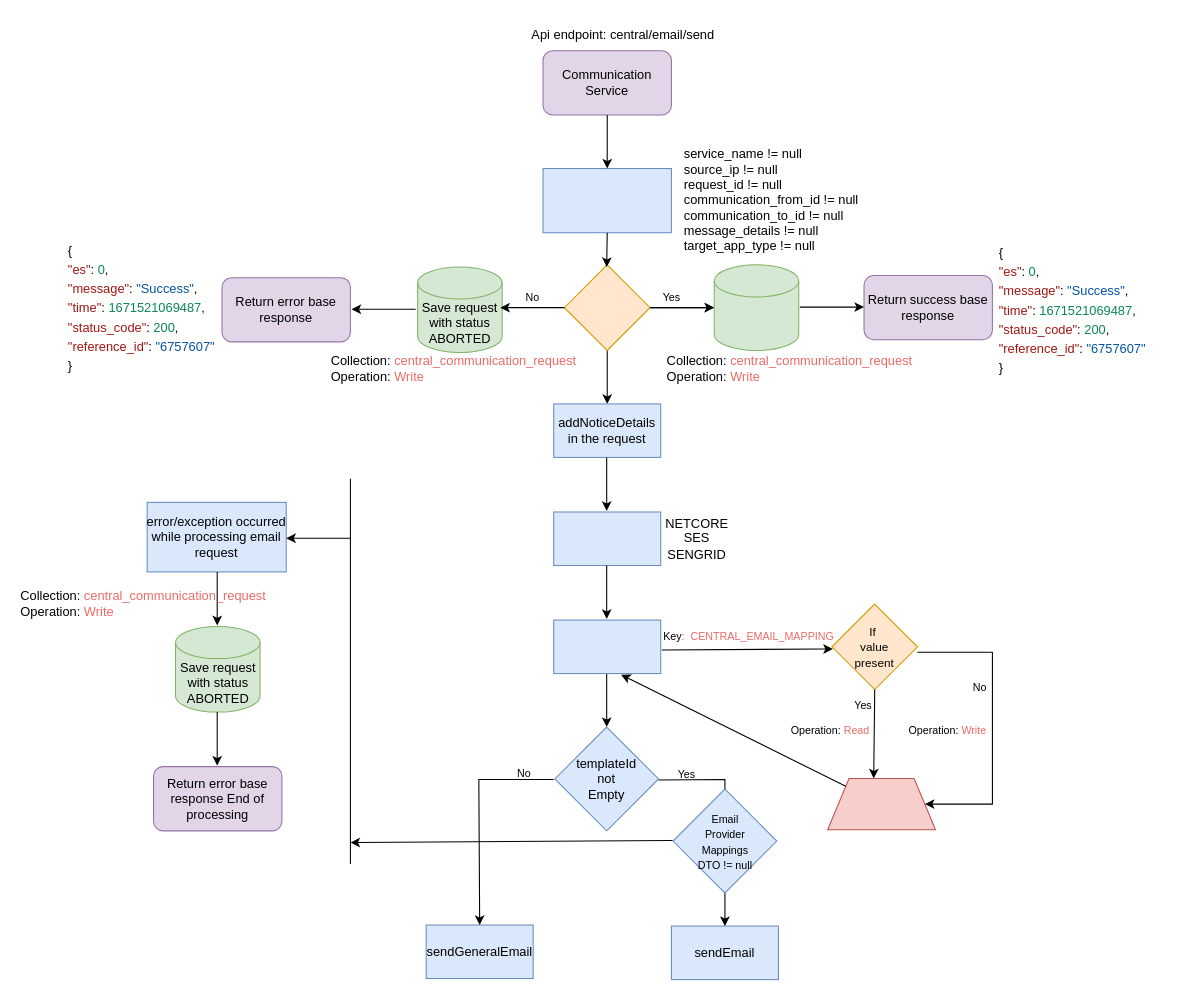
The diagram is 1182 pixels wide and 998 high, and some of its shapes have lost their labels. The centre of each missing label's shape, as x and y in pixels:
"Email Provider Mappings" goes at (607,646).
"getEmailManager" goes at (607,538).
"Redis" goes at (881,803).
"Save request with status INITIATED" goes at (756,307).
"Valid request" goes at (606,307).
"Validate the request is genuine and proper request" goes at (606,200).
